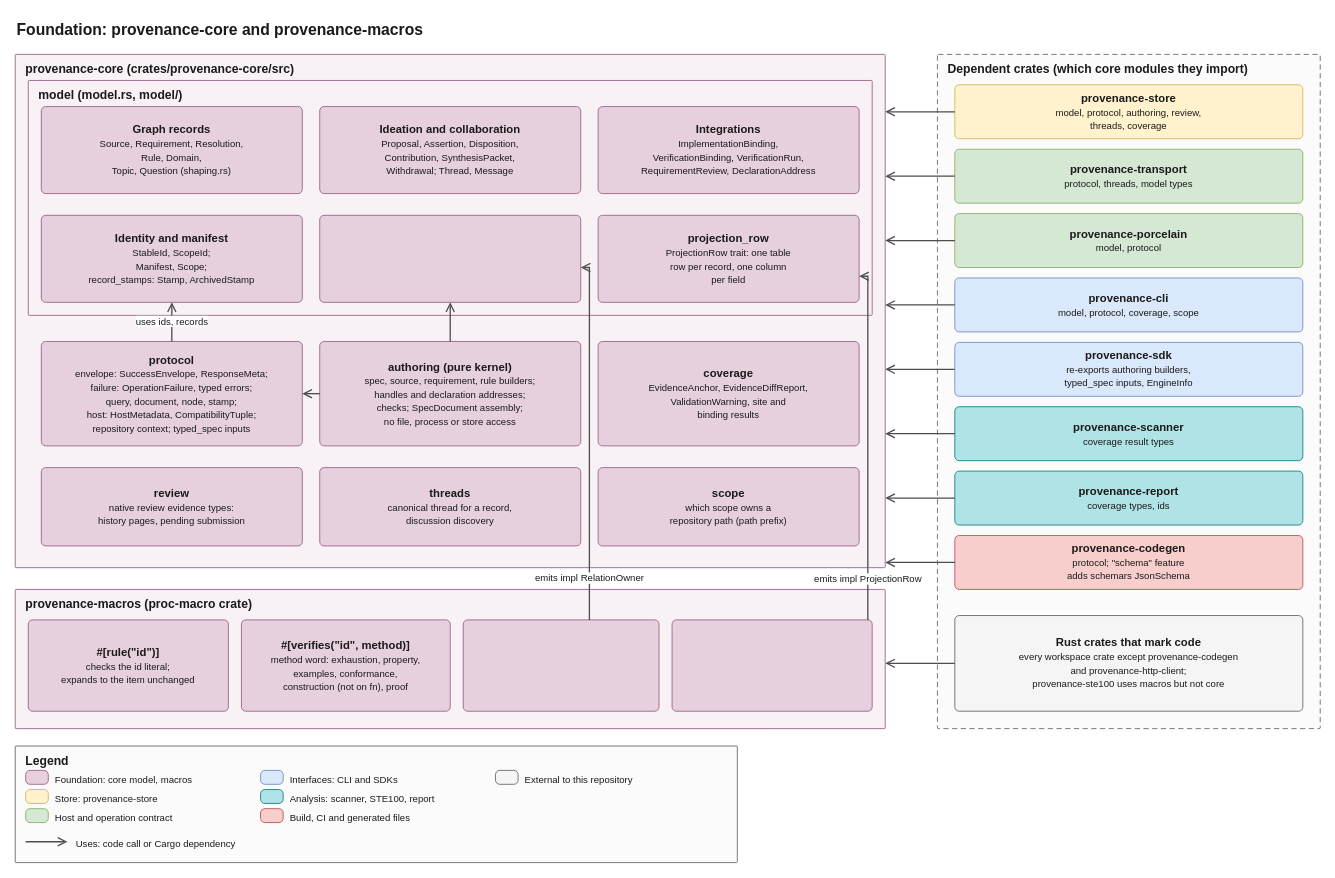
This 1335x878 diagram has some shape labels left out. Here are the shapes that lost their labels. From the top down, the centre of each, then its label:
point 450,258: relations closed relation vocabulary, RelationOwner trait, integrity
point 560,665: derive(Relations) #[relation] fields; emits impl RelationOwner
point 771,665: derive(ProjectionRow) #[table], #[column]; emits impl ProjectionRow
